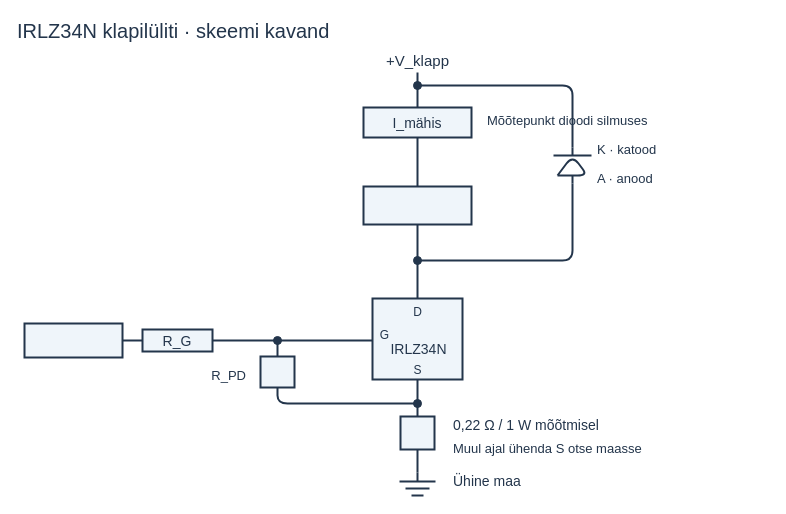
Image size: 786x514. Some labels were removed from this diagram. The shapes that lost their labels are listed below. From the top down, each one's centre as x and y in pixels, then its label:
(x=417, y=205): 3/2 klapi mähis
(x=73, y=340): Atom GPIO
